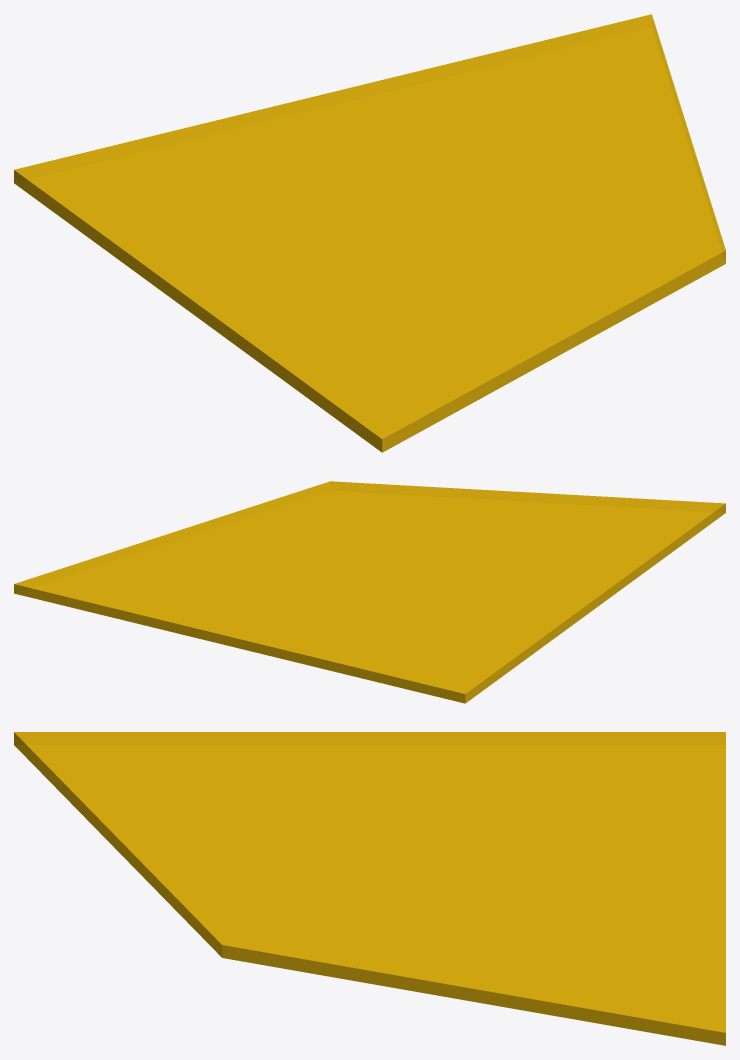
File: SM_Bld_Floor_Curved_Large_02_Collision.fbx
3 renders of one model, top to bottom at view 1: azimuth 30°, elevation 25°; view 2: azimuth 150°, elevation 25°; view 3: azimuth 270°, elevation 25°, orthographic. The views are drawn at different scales.
Visible parts, largest first — view 1: SM_Bld_Floor_Curved_Large_02_Collision; view 2: SM_Bld_Floor_Curved_Large_02_Collision; view 3: SM_Bld_Floor_Curved_Large_02_Collision.
Part boxes in pixels (x1,y1,x2,y2): SM_Bld_Floor_Curved_Large_02_Collision: [14, 14, 725, 452]; SM_Bld_Floor_Curved_Large_02_Collision: [14, 481, 725, 703]; SM_Bld_Floor_Curved_Large_02_Collision: [14, 732, 725, 1045].
Size of the model in its own units: 500 by 10.06 by 500.
